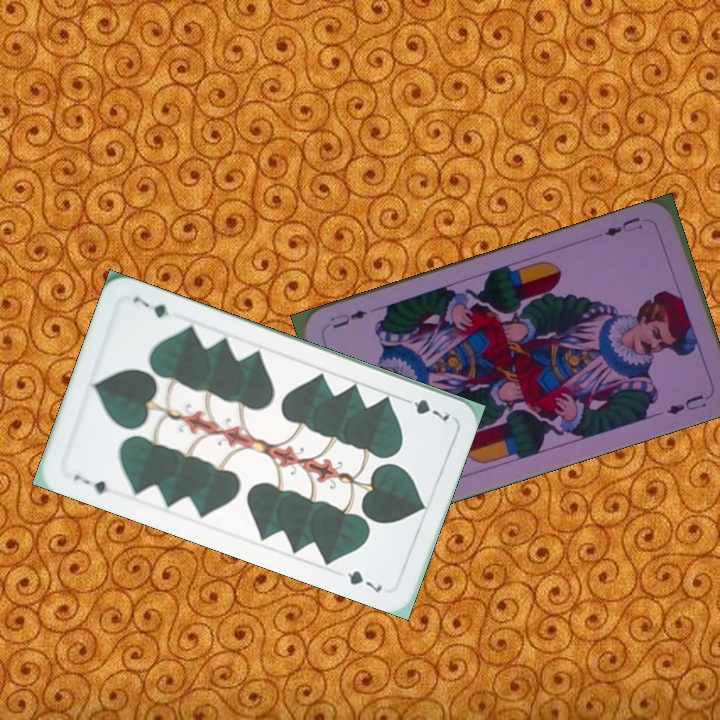EU: (600, 213, 645, 239)
G7: (397, 393, 453, 424), (69, 470, 111, 497)
